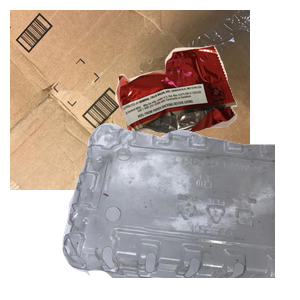cardboard: (10, 10, 250, 190)
glass: (77, 178, 205, 300)
plastic: (60, 120, 300, 300)
trash: (113, 43, 300, 181)
